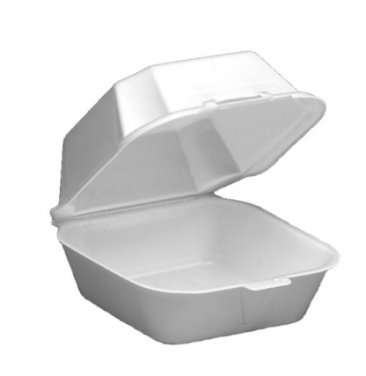Foam Box: (43, 47, 347, 347)
